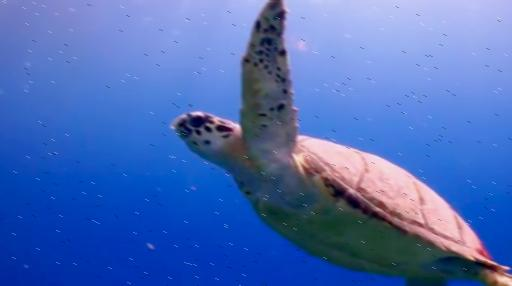Fish: (172, 0, 511, 285)
